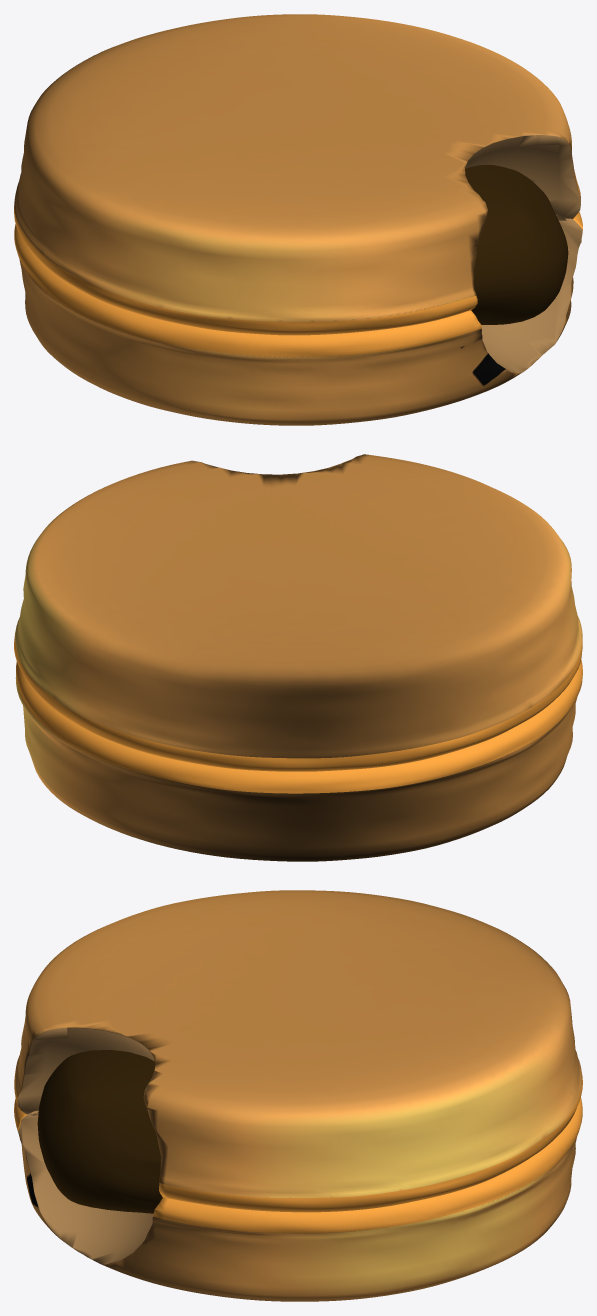
File: watch.glb
The picture shows the model from 3 angles, top to bottom: view 1: azimuth 30°, elevation 25°; view 2: azimuth 150°, elevation 25°; view 3: azimuth 270°, elevation 25°; orthographic projection.
Visible parts, largest first — view 1: Cylinder, Mball.002; view 2: Cylinder; view 3: Cylinder, Mball.002.
Part boxes in pixels (box(x1,y1,x2,y2)): Cylinder: box(14, 14, 582, 425); Mball.002: box(465, 165, 568, 324); Cylinder: box(14, 454, 582, 861); Cylinder: box(14, 890, 582, 1301); Mball.002: box(37, 1050, 162, 1213).
Size of the model in its own units: 2.07 by 0.8121 by 2.08.
4 materials, 1 textured.
